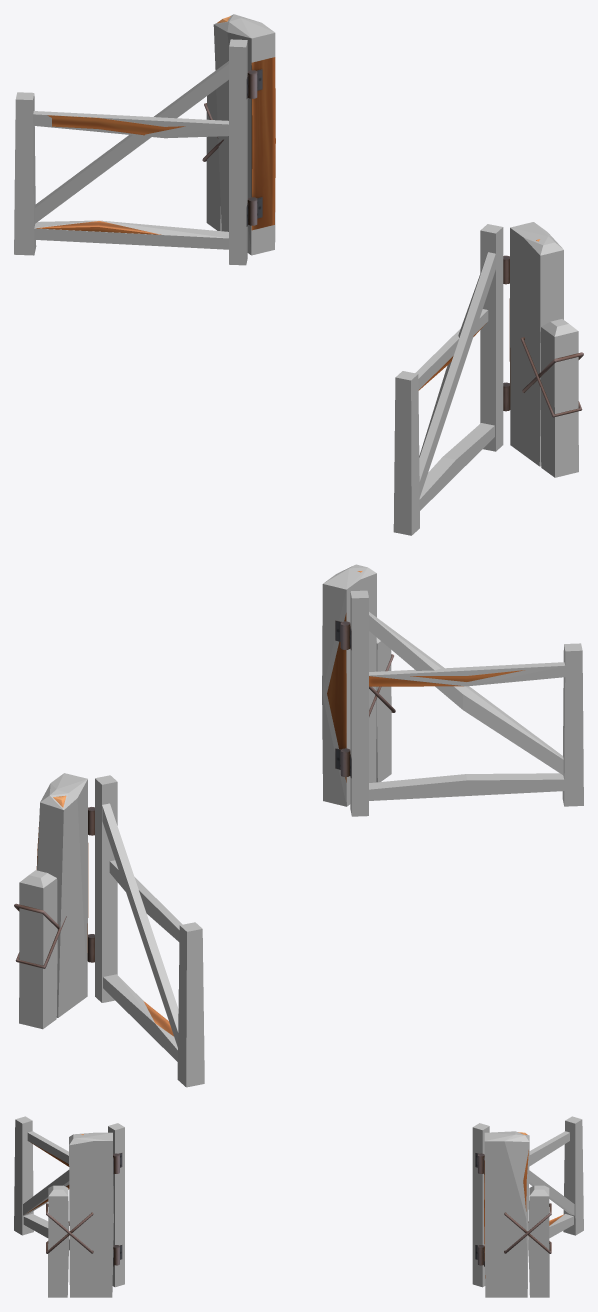
The model's file is SM_Fences01_7.fbx.
The picture shows the model from 3 angles, top to bottom: view 1: azimuth 30°, elevation 25°; view 2: azimuth 150°, elevation 25°; view 3: azimuth 270°, elevation 25°; orthographic projection. The views are drawn at different scales.
Visible parts, largest first — view 1: SM_Fences01_7_ConvexHulls, SM_Fences01_7; view 2: SM_Fences01_7_ConvexHulls, SM_Fences01_7; view 3: SM_Fences01_7_ConvexHulls, SM_Fences01_7.
Part boxes in pixels (box(x1,y1,x2,y2)): SM_Fences01_7_ConvexHulls: box(14, 14, 578, 535); SM_Fences01_7: box(36, 16, 583, 417); SM_Fences01_7_ConvexHulls: box(19, 564, 583, 1087); SM_Fences01_7: box(14, 571, 524, 1036); SM_Fences01_7_ConvexHulls: box(14, 1116, 583, 1297); SM_Fences01_7: box(26, 1132, 563, 1278).
Size of the model in its own units: 133 by 446 by 137.
2 materials, 1 textured.
